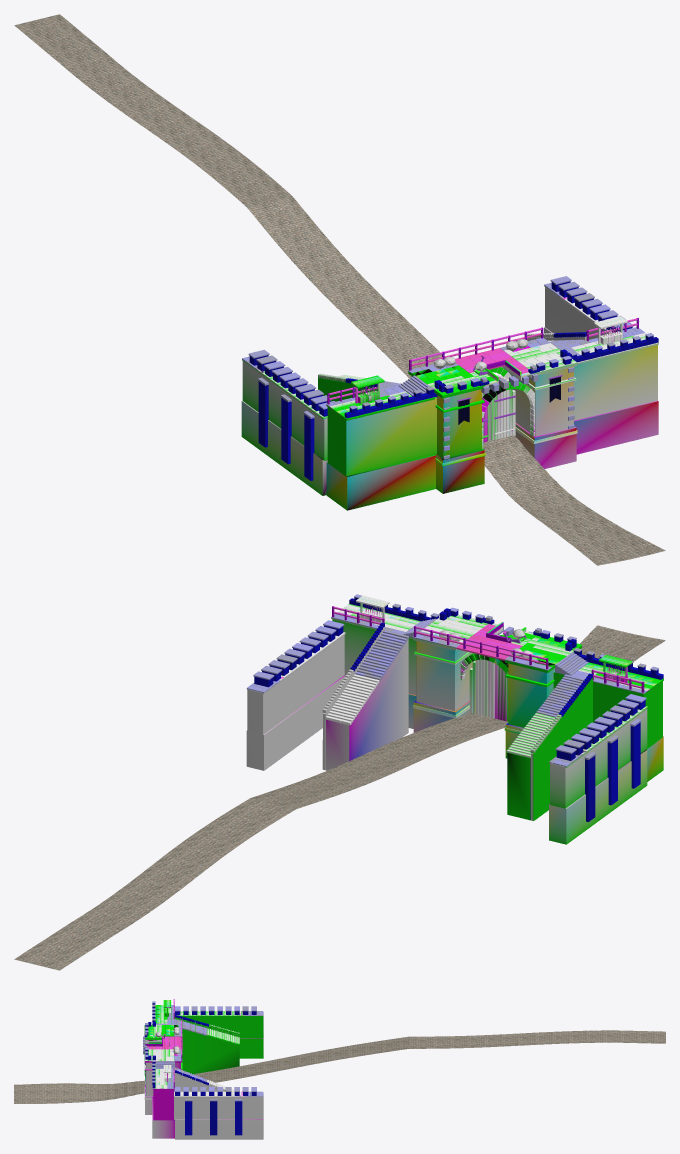
File: OuterGatehouse.fbx
The picture shows the model from 3 angles, top to bottom: view 1: azimuth 30°, elevation 25°; view 2: azimuth 150°, elevation 25°; view 3: azimuth 270°, elevation 25°; orthographic projection. The views are drawn at different scales.
Visible parts, largest first — view 1: Cobbled approach, West curtain, East curtain, West courtyard return, East gate pier, West gate pier, Arch and gallery, East courtyard return, East gate leaf, West stair; view 2: Cobbled approach, West courtyard return, East courtyard return, East stair, West stair, East gate pier, West gate pier, West curtain, East curtain, Arch and gallery, East gate leaf, West gate leaf; view 3: Cobbled approach, East courtyard return, West stair, West courtyard return, East curtain, East gate pier, East stair, Arch and gallery, West gate pier, West curtain.
Boxes of the visible parts, x1,y1,x2,y2 form: Cobbled approach: [14, 14, 665, 565]; West curtain: [326, 384, 437, 510]; East curtain: [567, 318, 658, 454]; West courtyard return: [241, 349, 335, 495]; East gate pier: [500, 338, 580, 468]; West gate pier: [398, 363, 485, 493]; Arch and gallery: [409, 327, 543, 449]; East courtyard return: [544, 276, 636, 339]; East gate leaf: [490, 375, 515, 440]; West stair: [318, 373, 400, 401]; Cobbled approach: [14, 625, 665, 970]; West courtyard return: [549, 694, 647, 844]; East courtyard return: [246, 620, 345, 770]; East stair: [322, 622, 408, 770]; West stair: [506, 673, 592, 820]; East gate pier: [403, 607, 487, 745]; West gate pier: [504, 630, 588, 758]; West curtain: [553, 648, 663, 781]; East curtain: [331, 594, 439, 728]; Arch and gallery: [414, 615, 548, 680]; East gate leaf: [469, 659, 494, 718]; West gate leaf: [494, 663, 508, 721]; Cobbled approach: [14, 1030, 665, 1103]; East courtyard return: [174, 1087, 263, 1139]; West stair: [175, 1014, 239, 1074]; West courtyard return: [175, 1006, 263, 1058]; East curtain: [152, 1060, 174, 1138]; East gate pier: [144, 1047, 182, 1114]; East stair: [175, 1067, 234, 1091]; Arch and gallery: [143, 1019, 182, 1060]; West gate pier: [144, 1022, 182, 1080]; West curtain: [152, 999, 174, 1024].
Size of the model in its own units: 30.33 by 10.35 by 95.85.
